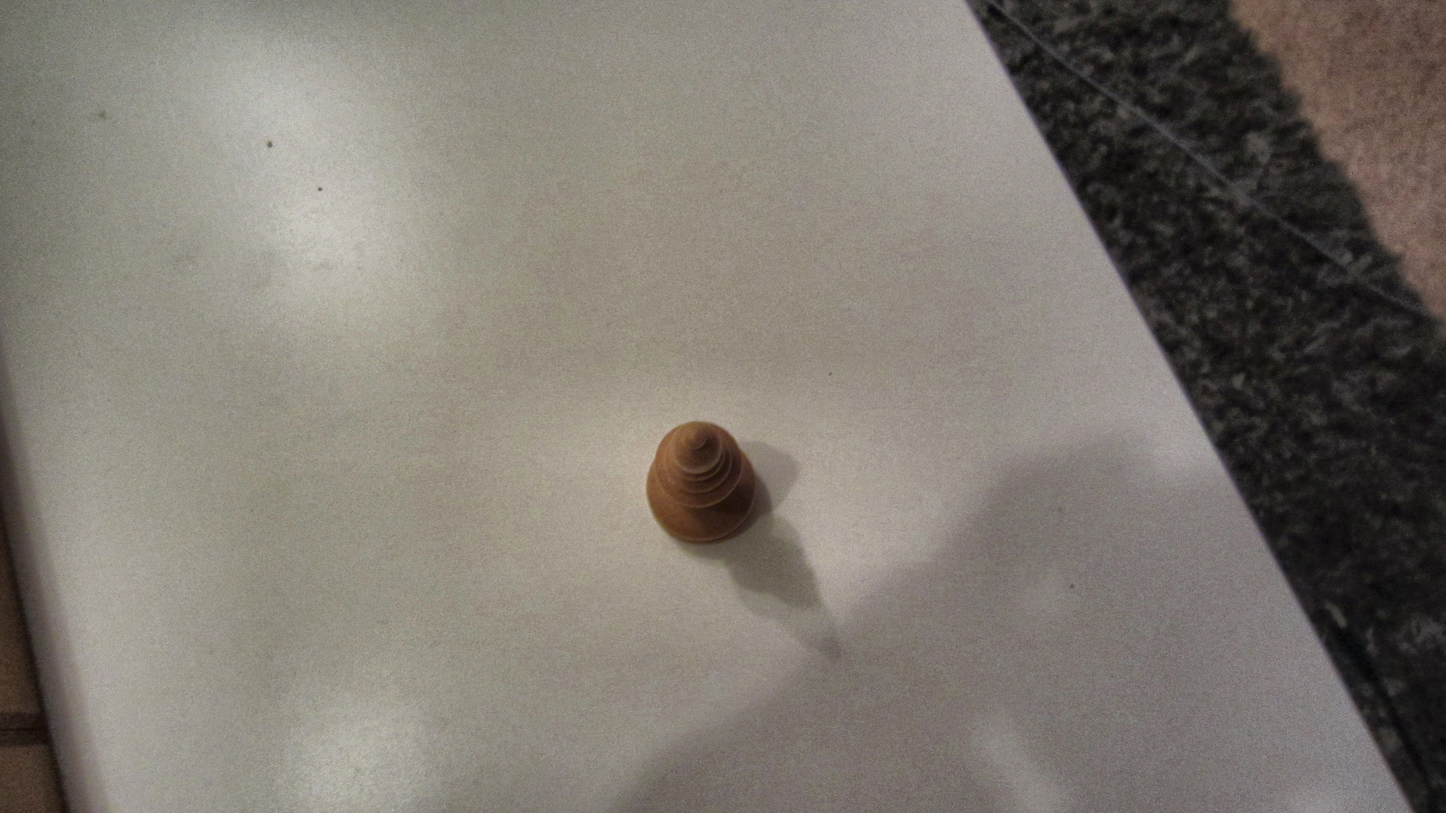white-bishop: (639, 417, 763, 546)
